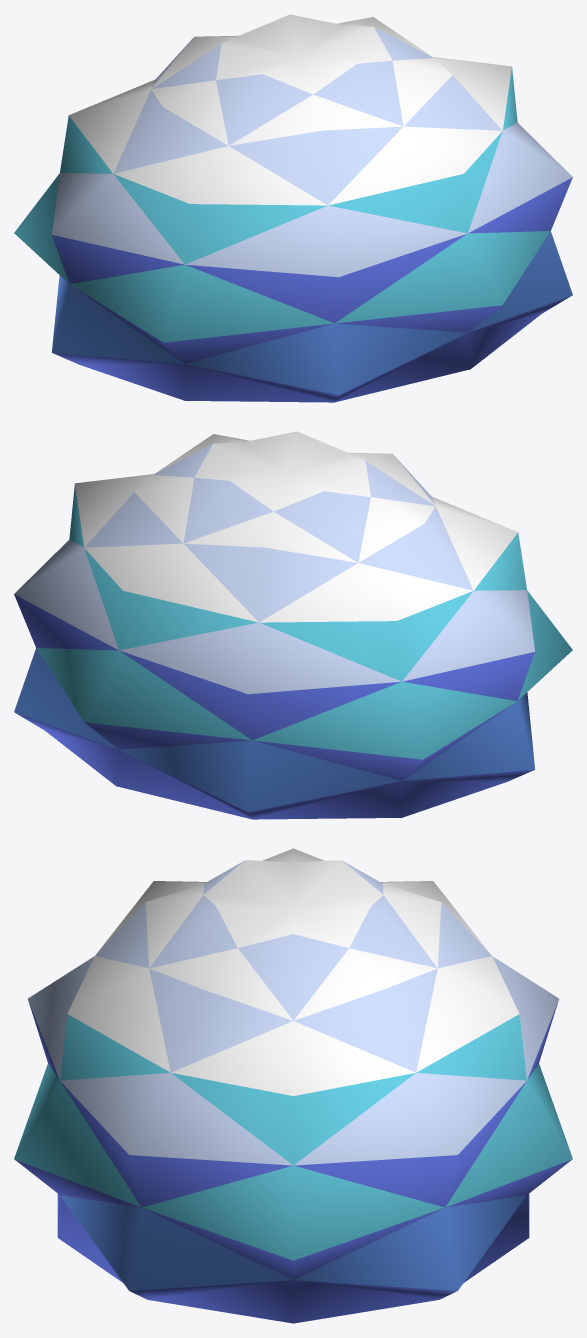
Rendered from mesh_Bush_Snowy.fbx.
The picture shows the model from 3 angles, top to bottom: view 1: azimuth 30°, elevation 25°; view 2: azimuth 150°, elevation 25°; view 3: azimuth 270°, elevation 25°; orthographic projection. The views are drawn at different scales.
Parts seen in each view (by area): view 1: pSphere1; view 2: pSphere1; view 3: pSphere1.
Part boxes in pixels (<box>): pSphere1: <box>14,14,572,402</box>; pSphere1: <box>14,431,572,819</box>; pSphere1: <box>14,848,572,1323</box>.
Bounding box in the file's own units: 1.44 × 0.7633 × 1.19.
1 material, 1 textured.
